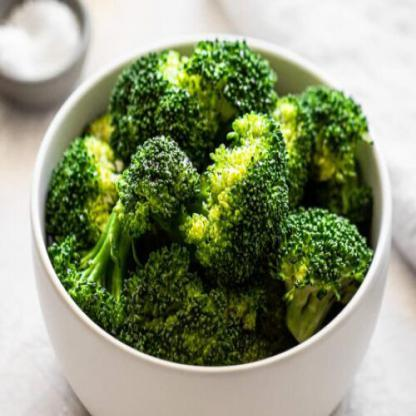broccoli: (45, 33, 380, 372)
